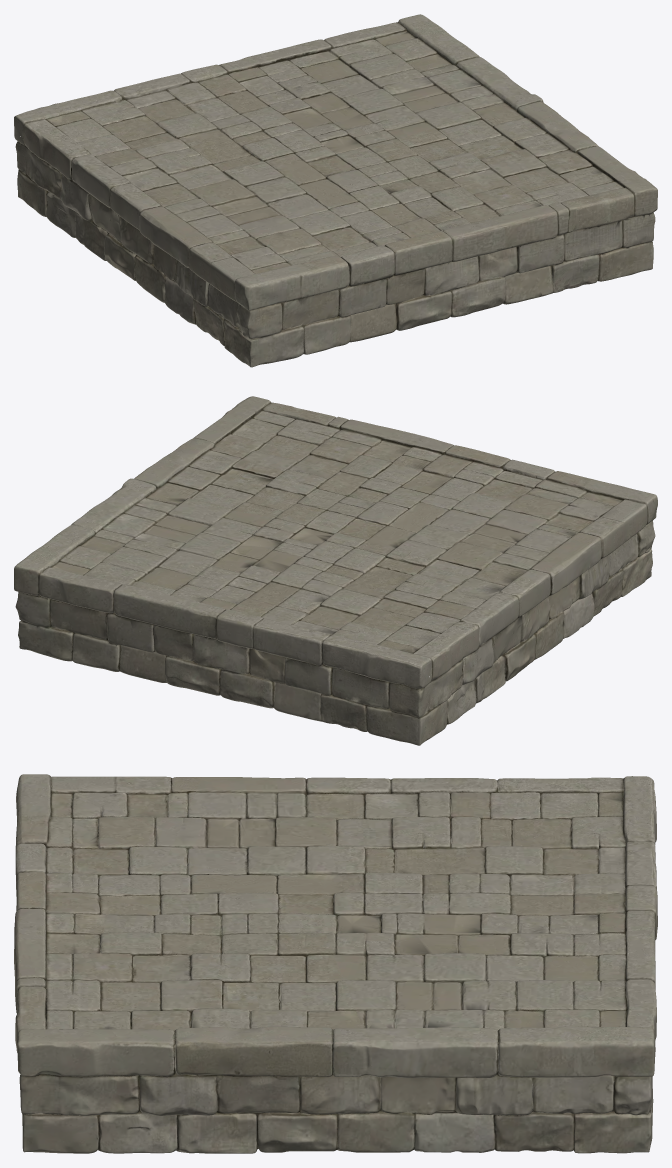
Rendered from tripo_pbr_model_e33dc3ca-ab36-4050-b5aa-1a89801551c4_meshopt.glb.
The picture shows the model from 3 angles, top to bottom: view 1: azimuth 30°, elevation 25°; view 2: azimuth 150°, elevation 25°; view 3: azimuth 270°, elevation 25°; orthographic projection. The views are drawn at different scales.
Parts seen in each view (by area): view 1: tripo_node_e33dc3ca-ab36-4050-b5aa-1a89801551c4; view 2: tripo_node_e33dc3ca-ab36-4050-b5aa-1a89801551c4; view 3: tripo_node_e33dc3ca-ab36-4050-b5aa-1a89801551c4.
Part boxes in pixels (left/top/right/bottom): tripo_node_e33dc3ca-ab36-4050-b5aa-1a89801551c4: left=14, top=14, right=657, bottom=367; tripo_node_e33dc3ca-ab36-4050-b5aa-1a89801551c4: left=14, top=396, right=657, bottom=745; tripo_node_e33dc3ca-ab36-4050-b5aa-1a89801551c4: left=14, top=774, right=657, bottom=1153.
Bounding box in the file's own units: 0.9709 × 0.1919 × 0.9661.
1 material, 1 textured.
